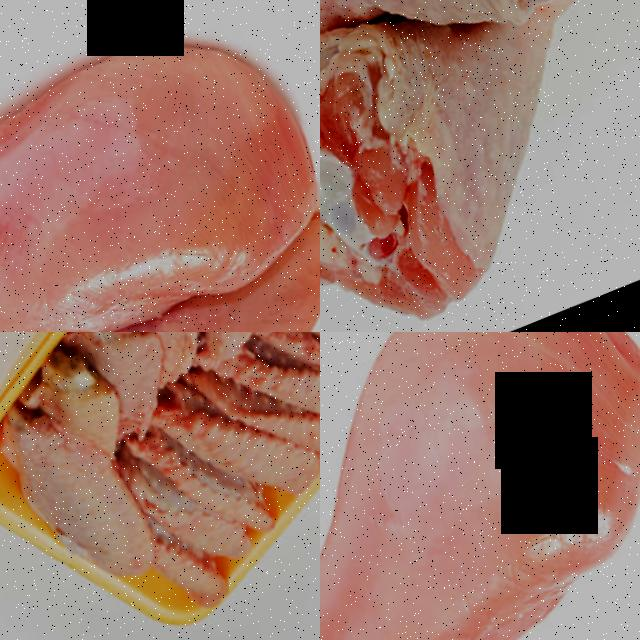chicken breast: (0, 0, 320, 332), (320, 332, 640, 640), (0, 244, 320, 332)
chicken thigh: (320, 0, 640, 332), (320, 0, 604, 135)
